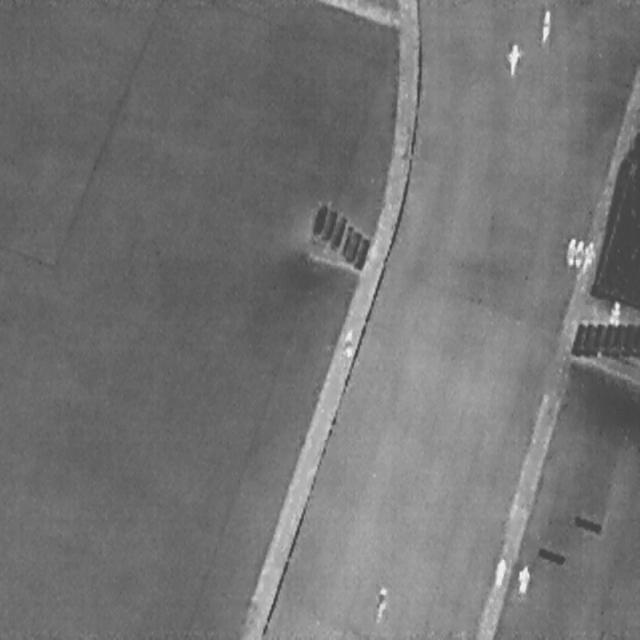Person: (489, 552, 509, 592), (372, 582, 389, 624), (515, 559, 531, 595), (505, 37, 520, 75), (539, 6, 552, 45), (563, 232, 577, 266), (582, 239, 597, 270), (572, 236, 585, 268), (609, 298, 621, 328), (343, 325, 354, 355)
